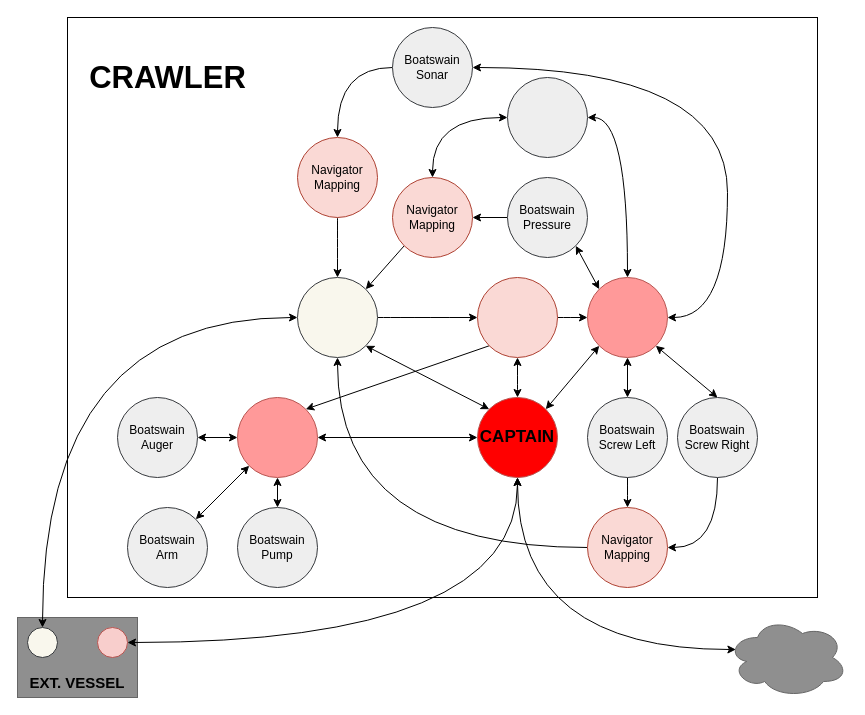
Image size: 865x715. Some labels were removed from this diagram. Each missing label, with the box of its shape:
Boatswain IMU: (506, 76, 588, 158)
First mate Dredging: (236, 396, 318, 478)
First mate Travel: (586, 276, 668, 358)
Navigator Plotting: (476, 276, 558, 358)
Outside controller: (726, 616, 848, 698)
WORLD: (296, 276, 378, 358)
